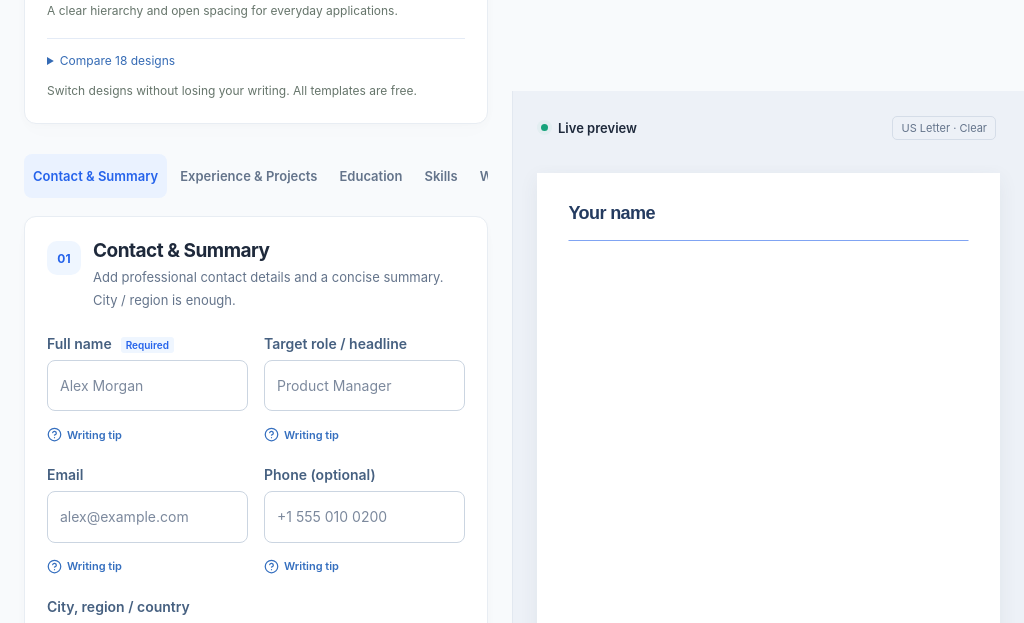
Test: edits bullets, preserves the English draft across designs and exports the selected locale
Later steps or results of the test are not shown.
(page scrolled)
In the field labelled "Full name": coordinates (148, 385) [47,360,248,411], type "Taylor Lee"
(page scrolled)
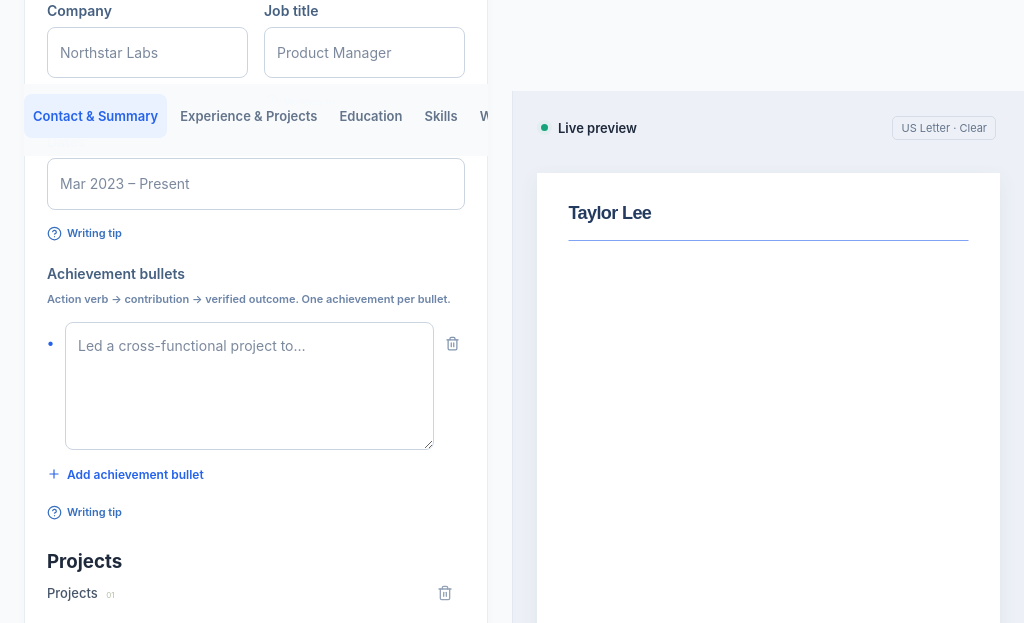
In the text box named "Experience 1 Achievement bullets 1": coordinates (250, 386) [65,322,434,450], type "Built a release validation checklist."
(page scrolled)
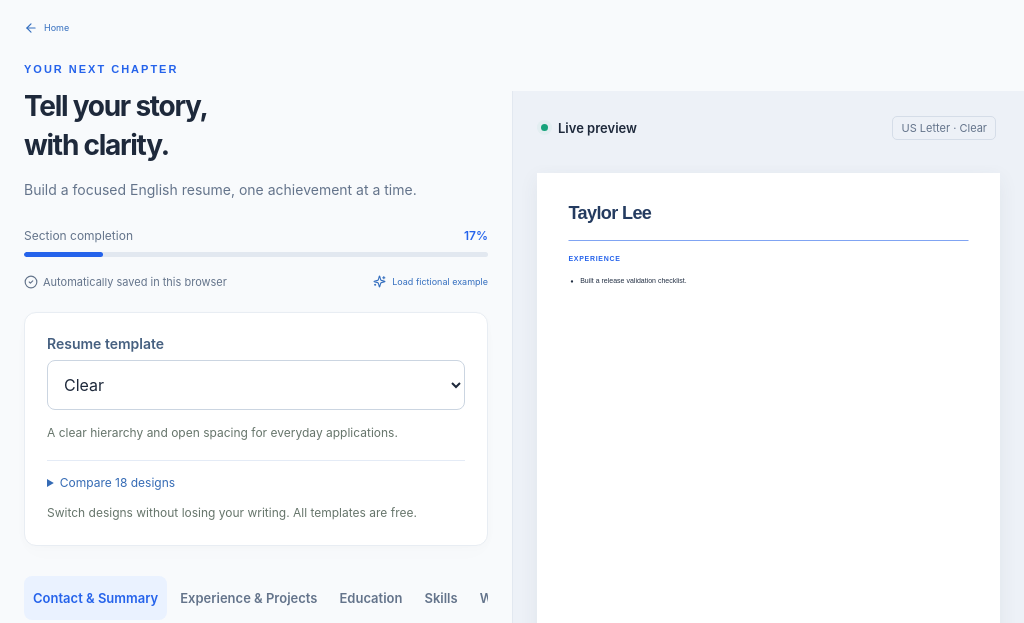
Select "Studio" in the dropdown labelled "Resume template": coordinates (256, 385) [47,360,465,410]
(page scrolled)
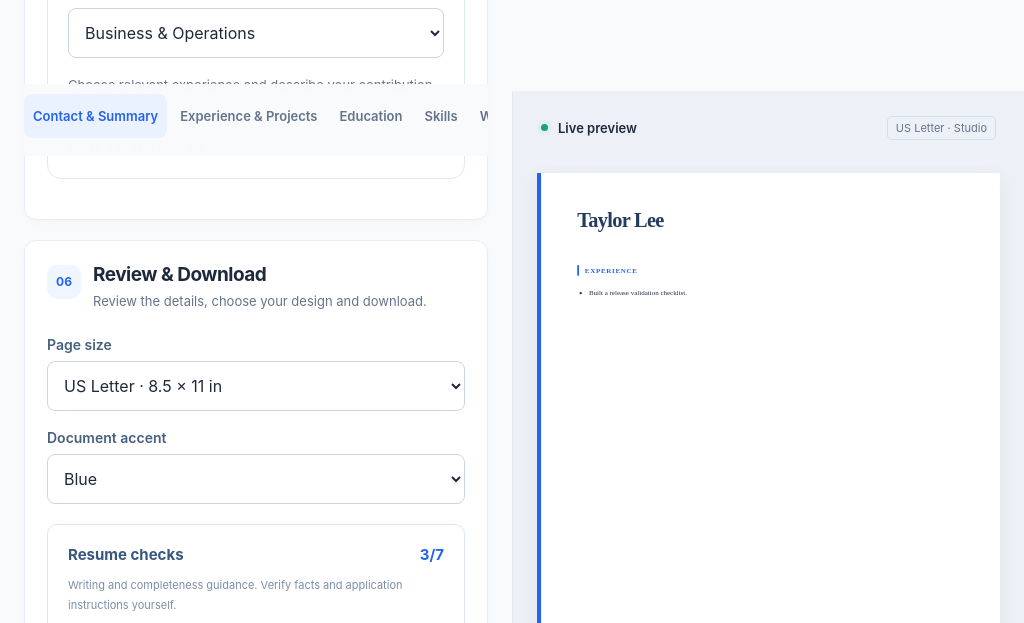
Result: the list item "Built a release validation checklist." is shown at [589,288,687,297]
